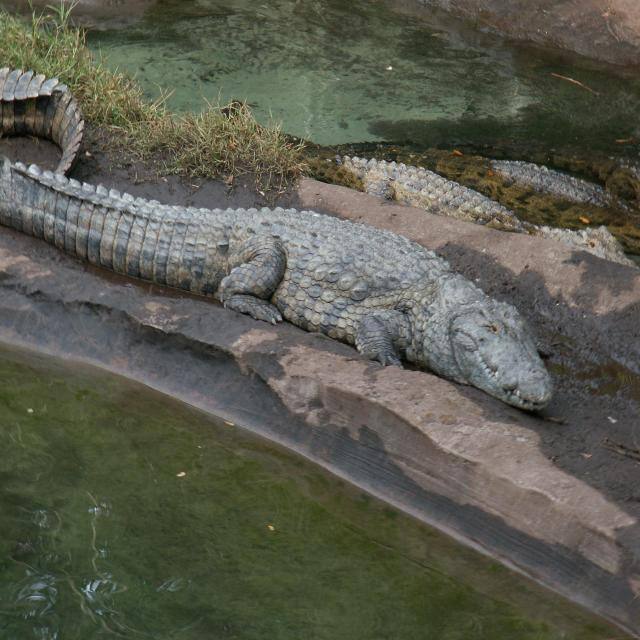crocodile: (0, 142, 584, 429)
